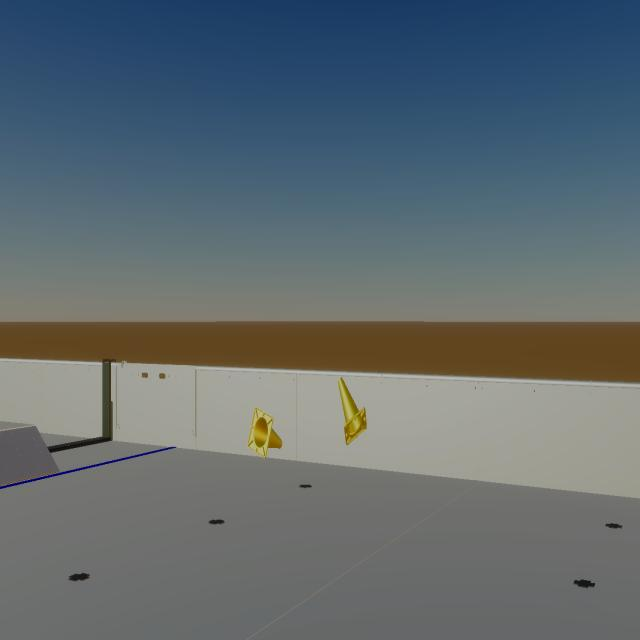frc_cone: (338, 378, 367, 445), (248, 407, 282, 458)
